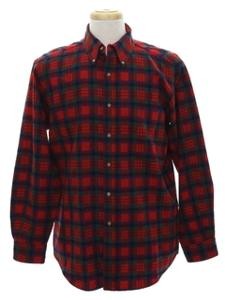C_long sleeve: (9, 15, 222, 294)
